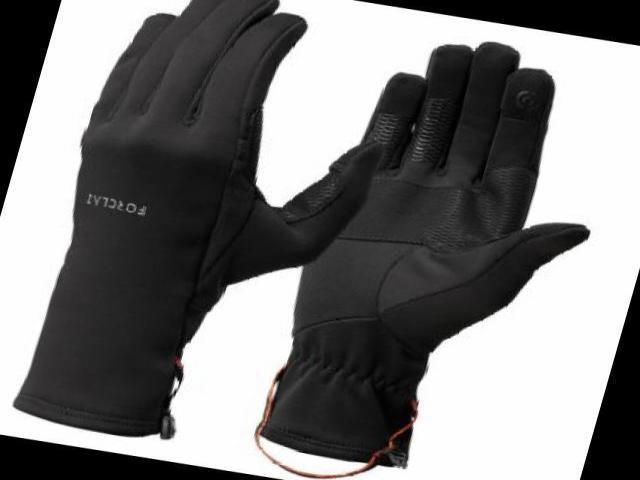Hand-in-Glove: (0, 0, 421, 390), (271, 7, 636, 433)
